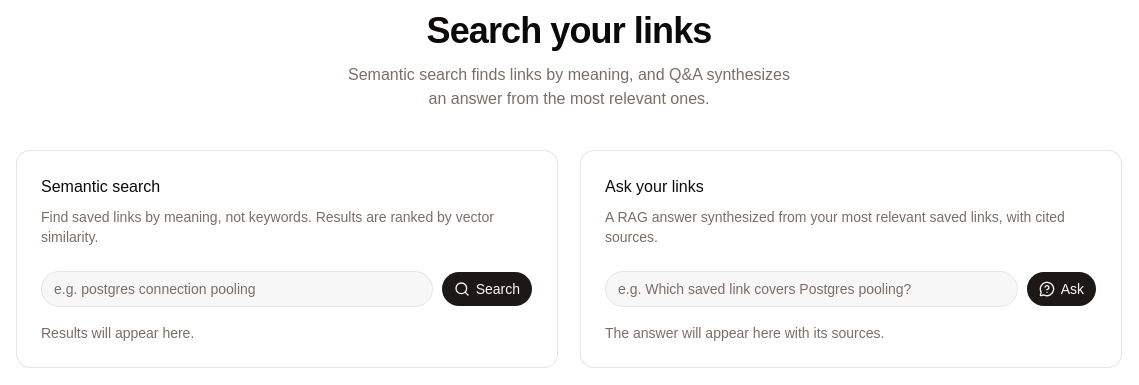
Test: Search › surfaces API errors inline
This screenshot has width=1139, height=385.
Type "pooling" into the field named "Search query" at (237, 289), box [41,271,433,307]
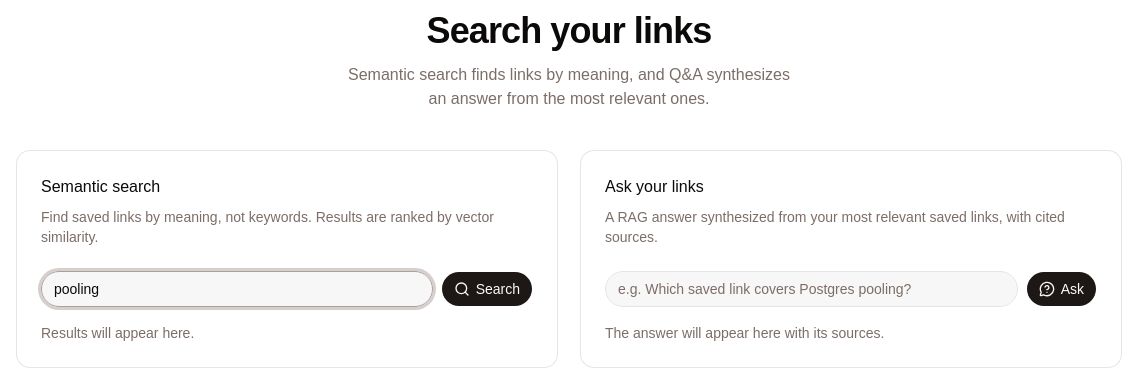
Click the button "Search" at (487, 289), box [441,271,533,307]
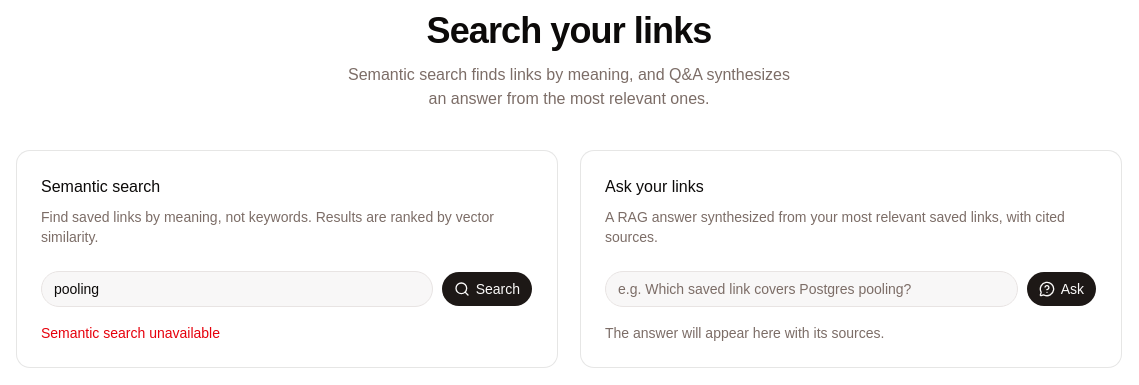
Now the message reads "Semantic search unavailable", box [41,325,220,341]
